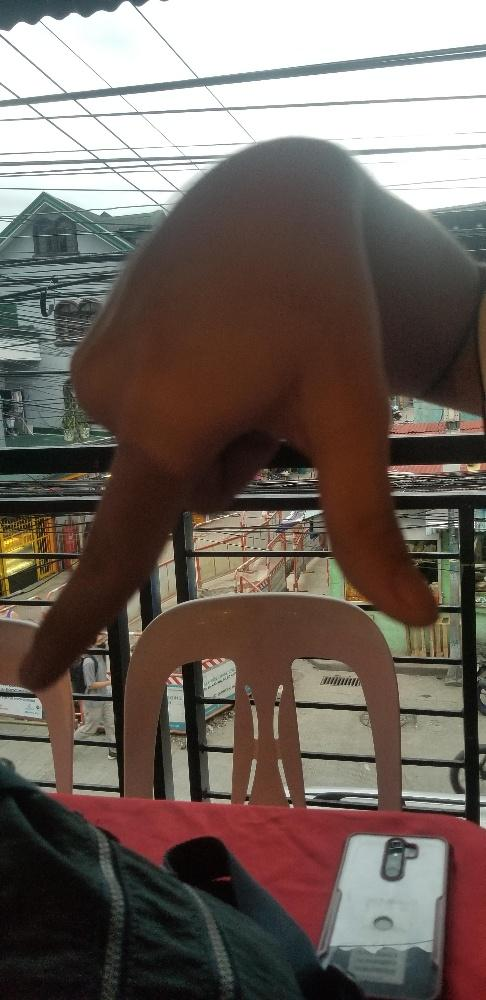q: (15, 135, 438, 692)
